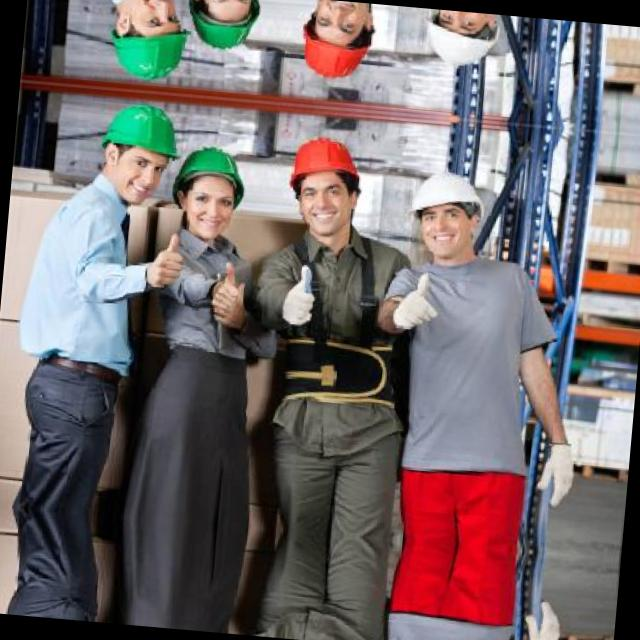helmet: (274, 125, 378, 244), (160, 123, 256, 250), (89, 89, 186, 204), (394, 156, 490, 265), (286, 0, 390, 89), (98, 0, 196, 92), (410, 7, 504, 80), (176, 0, 268, 71)
